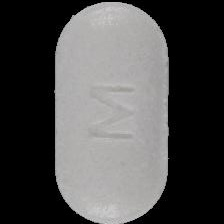53808-0605: (0, 0, 224, 224)
